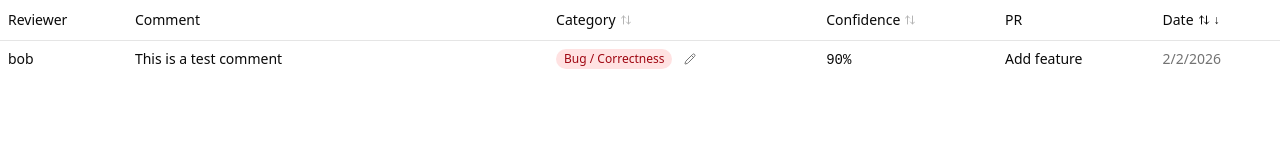
Test: CommentsTable › switches to editing mode when edit button is clicked
Click the button with test id "edit-classification": (690, 59) [680, 49, 700, 69]
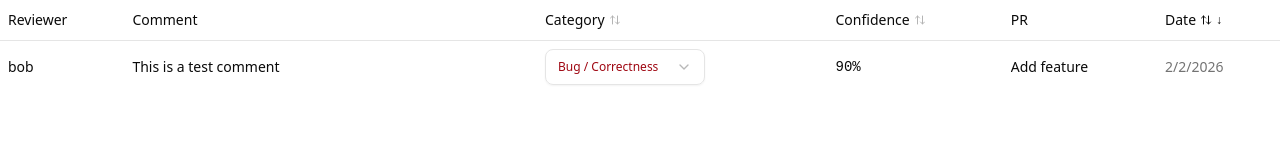
expect the dropdown with test id "category-select" is shown: met, box [545, 48, 705, 84]
expect the button with test id "edit-classification" is gone: met
